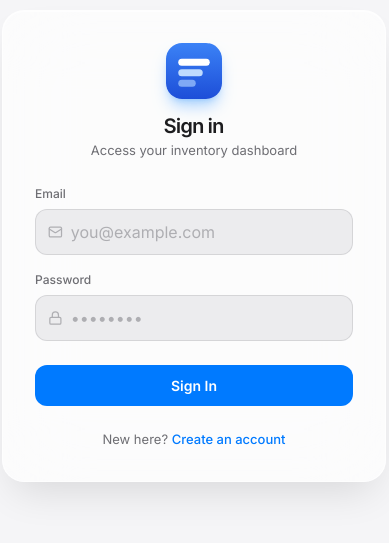
Test: Login error reporting › shows the lockout message when the server reports a lockout
In the field labelled "Email": {"x": 205, "y": 232} left=71, top=220, right=340, bottom=244, type "someone@example.com"
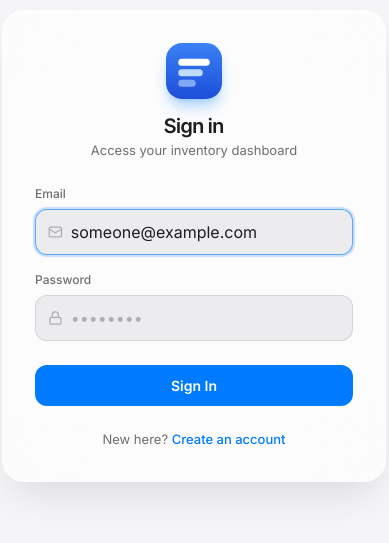
In the password field labelled "Password": {"x": 205, "y": 318} left=71, top=306, right=340, bottom=330, type "whatever"
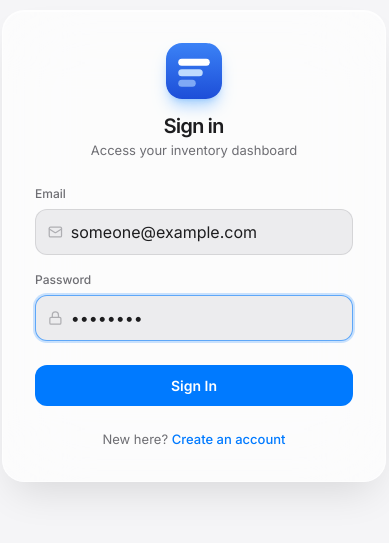
Click the button "Sign In": {"x": 194, "y": 385} left=35, top=364, right=353, bottom=406
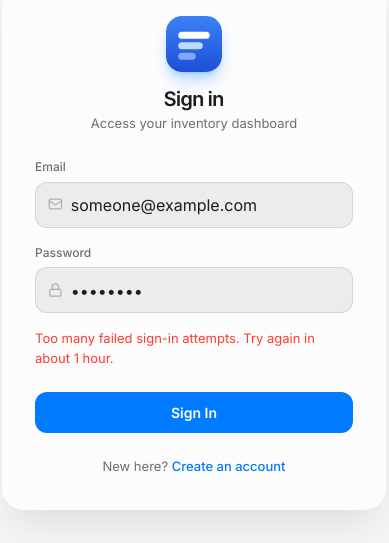
Result: the text "Too many failed sign-in attempts. Try again in about 1 hour." is shown at left=35, top=329, right=353, bottom=368
